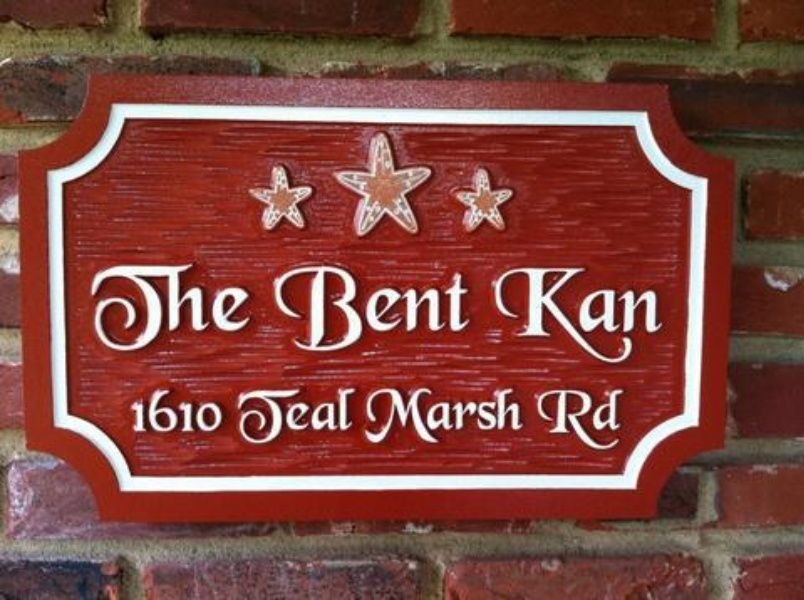text: (497, 267, 512, 364), (513, 267, 528, 364), (529, 267, 544, 364), (545, 267, 560, 364), (561, 267, 576, 364), (577, 267, 592, 364), (593, 267, 608, 364), (609, 267, 624, 364), (625, 267, 640, 364), (641, 267, 656, 364), (97, 262, 112, 352), (113, 262, 128, 352), (129, 262, 144, 352), (145, 262, 160, 352), (161, 262, 176, 352), (177, 262, 192, 352), (193, 262, 208, 352), (209, 262, 224, 352), (225, 262, 240, 352), (289, 264, 304, 351), (305, 264, 320, 351), (321, 264, 336, 351), (337, 264, 352, 351), (353, 264, 368, 351), (369, 264, 384, 351), (385, 264, 400, 351), (401, 264, 416, 351), (417, 264, 432, 351), (433, 264, 448, 351), (449, 264, 464, 351), (274, 264, 288, 351), (241, 262, 252, 352), (545, 388, 560, 450), (561, 388, 576, 450), (577, 388, 592, 450), (593, 388, 608, 450), (609, 388, 624, 450), (241, 386, 256, 446), (257, 386, 272, 446), (273, 386, 288, 446), (289, 386, 304, 446), (305, 386, 320, 446), (321, 386, 336, 446), (337, 386, 352, 446), (369, 388, 384, 445), (385, 388, 400, 445), (401, 388, 416, 445), (417, 388, 432, 445), (433, 388, 448, 445), (449, 388, 464, 445), (465, 388, 480, 445), (481, 388, 496, 445), (497, 388, 512, 445), (513, 388, 525, 445), (657, 267, 664, 364), (145, 389, 160, 433), (161, 389, 176, 433), (177, 389, 192, 433), (193, 389, 208, 433), (209, 389, 223, 433), (131, 389, 144, 433), (465, 264, 471, 351), (537, 388, 544, 450), (361, 388, 368, 445), (93, 262, 96, 352), (353, 386, 357, 446), (238, 386, 240, 446), (495, 267, 496, 364)
